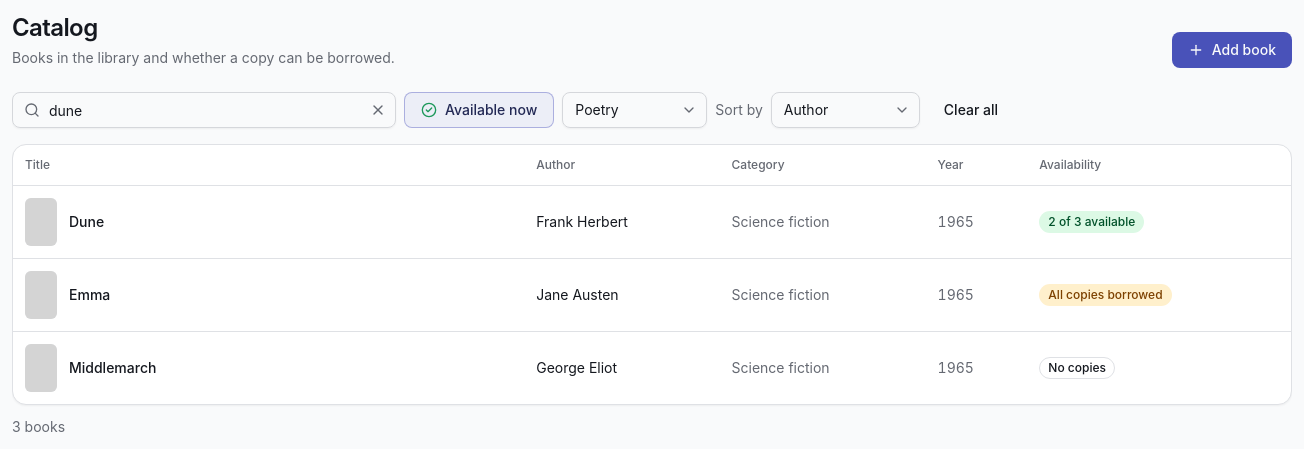
Test: CatalogPage › clears the search, the filters and the order in one step
Expected: the link "Dune" is shown, [69,212,104,232]
Click the button "Clear all" at (971,110), box [928,92,1014,128]
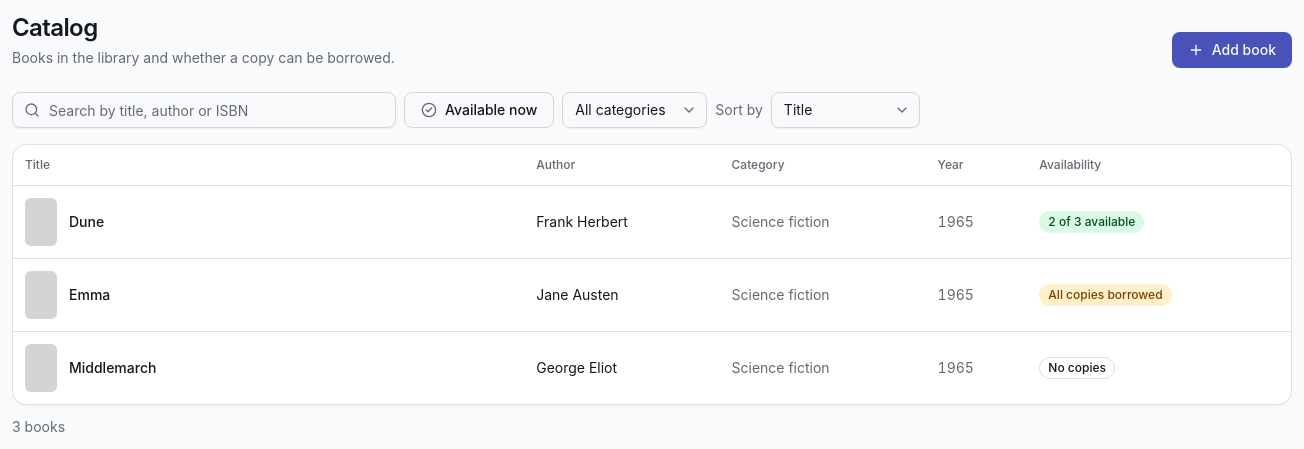
Expected: the search field named "Search the catalog" is empty, [12,92,396,128]
Expected: the dropdown named "Category" shows "All categories", [562,92,707,128]
Expected: the dropdown labelled "Sort by" shows "Title", [771,92,920,128]
